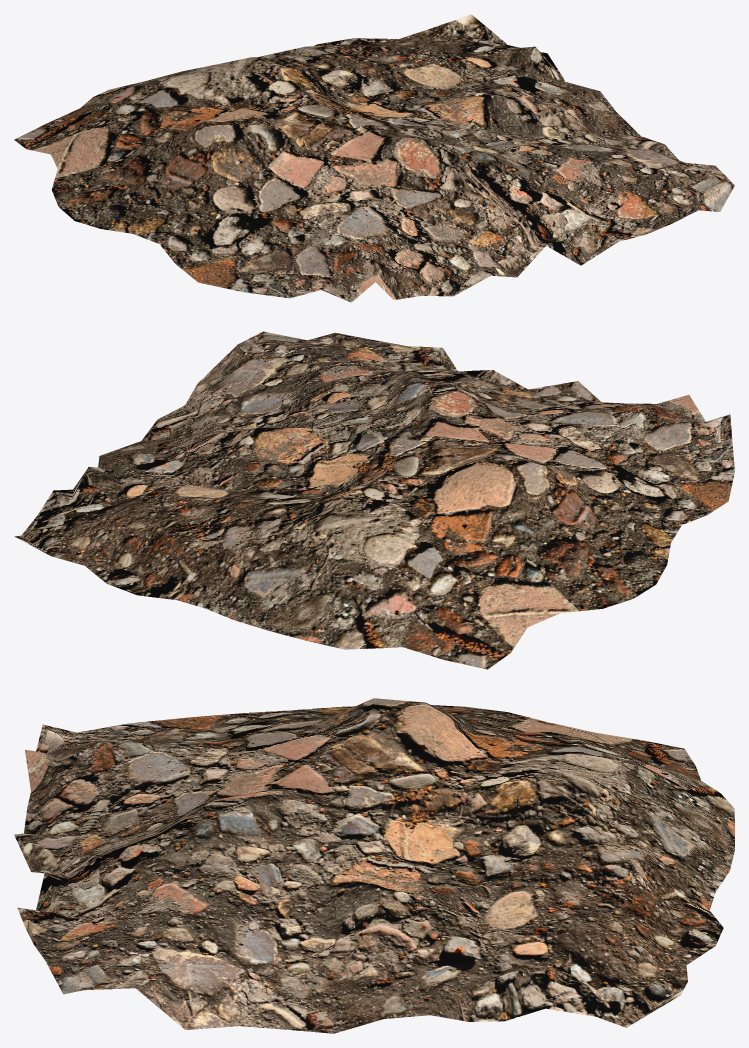
Rendered from Rocks_Plane_3.fbx.
3 views of the same model, one above another, from view 1: azimuth 30°, elevation 25°; view 2: azimuth 150°, elevation 25°; view 3: azimuth 270°, elevation 25° (orthographic). The views are drawn at different scales.
Visible parts, largest first — view 1: Rocks_Plane_3; view 2: Rocks_Plane_3; view 3: Rocks_Plane_3.
Boxes of the visible parts, bbox=[...] form: Rocks_Plane_3: bbox=[14, 14, 734, 302]; Rocks_Plane_3: bbox=[14, 331, 734, 669]; Rocks_Plane_3: bbox=[14, 698, 734, 1033].
Size of the model in its own units: 484 by 75.27 by 472.
Materials: 1 (1 with a texture image).
